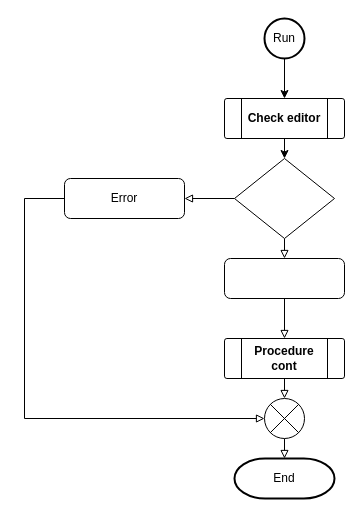
Image size: 362x516. Some labels were removed from this diagram. Here are the shapes that lost their labels. From the top down, the centre of each, then its label:
(x=284, y=198): OK?
(x=284, y=278): _EDITOR BASE_CONF
